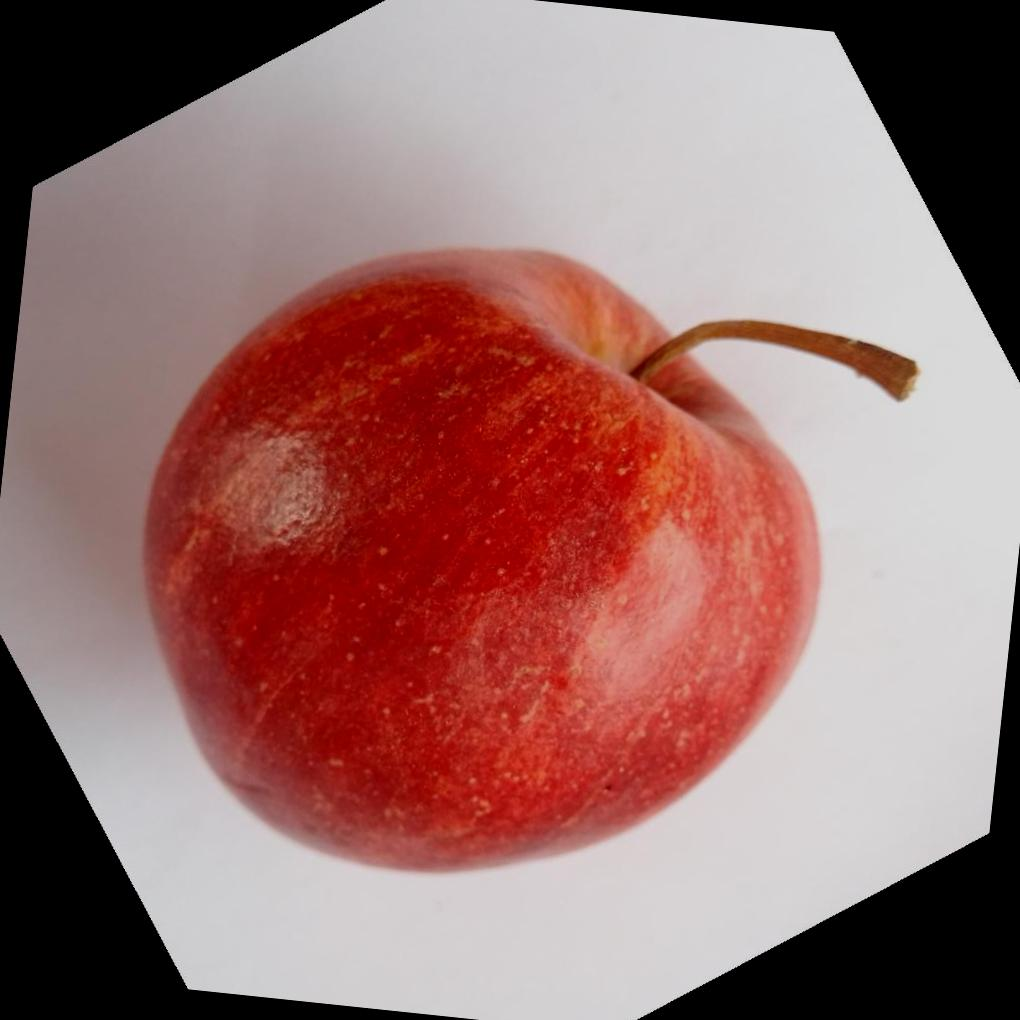FreshGuava: (137, 247, 822, 876)
